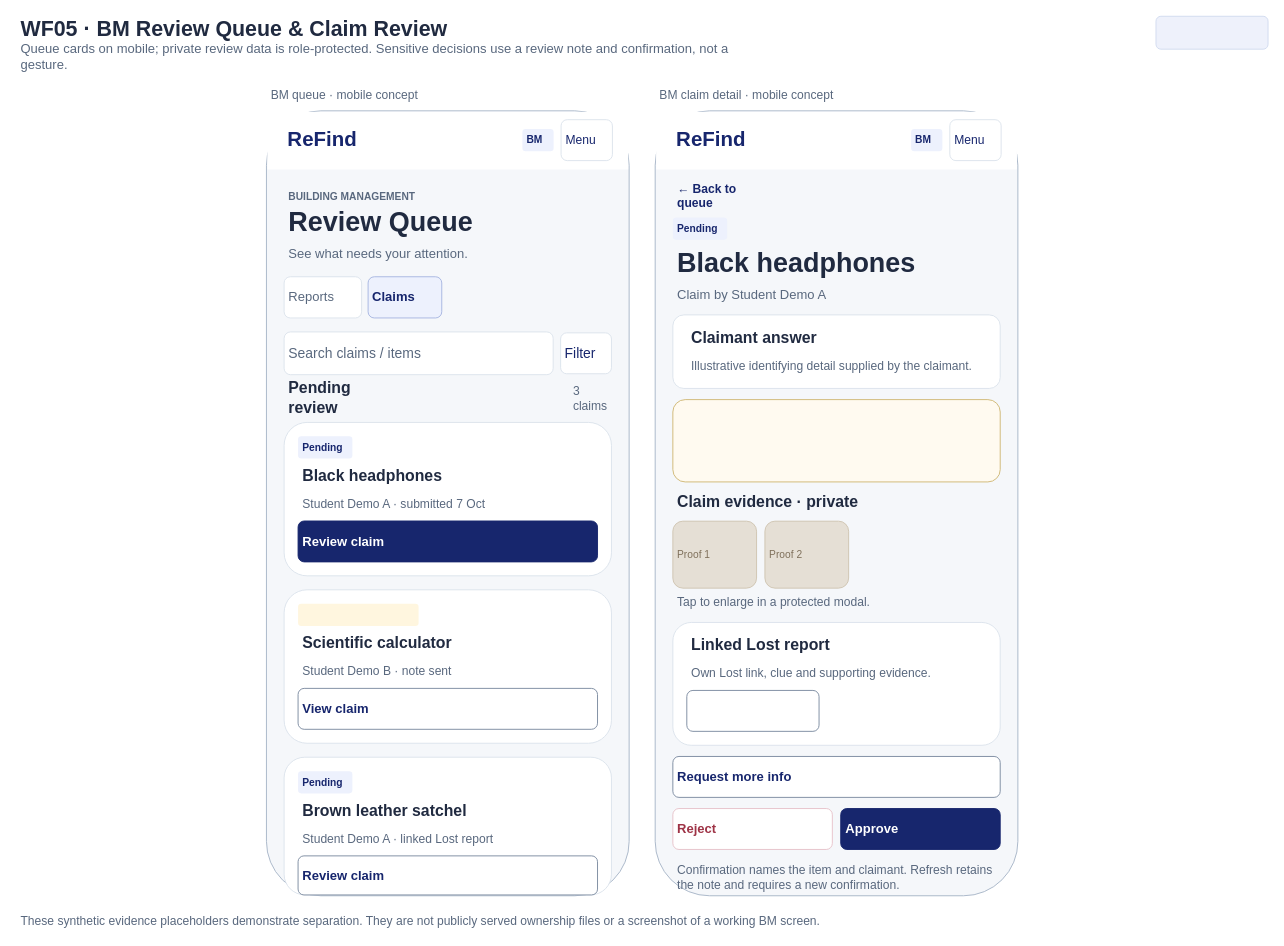
The diagram is 1284 pixels wide and 946 high, and some of its shapes have lost their labels. Each missing label, with the centre of its shape:
"Awaiting Student info" belongs at [358,614].
"CONCEPT / UX01" belongs at [1211,32].
"Illustrative verification detail. Never available in Student item detail." belongs at [836,440].
"Open linked report" belongs at [752,710].
